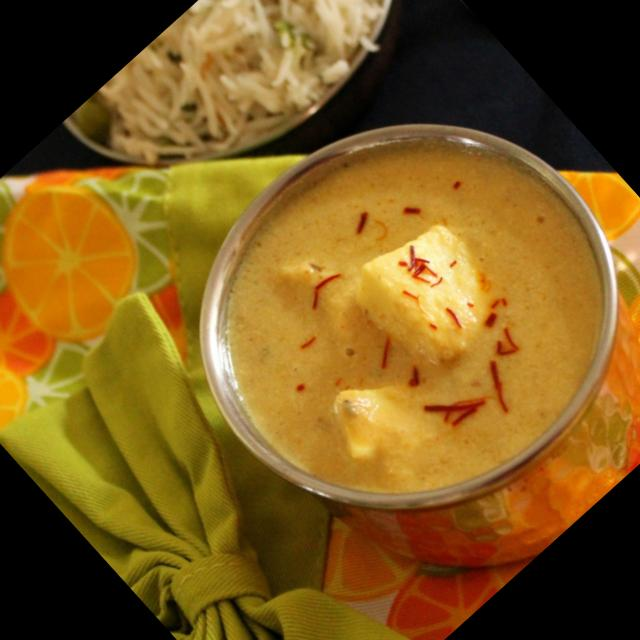ShahiPaneer: (151, 58, 640, 575)
